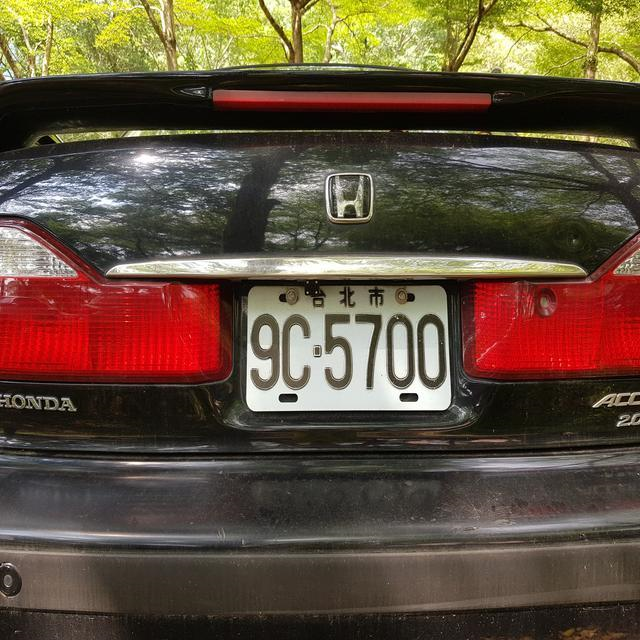license: (245, 288, 452, 408)
